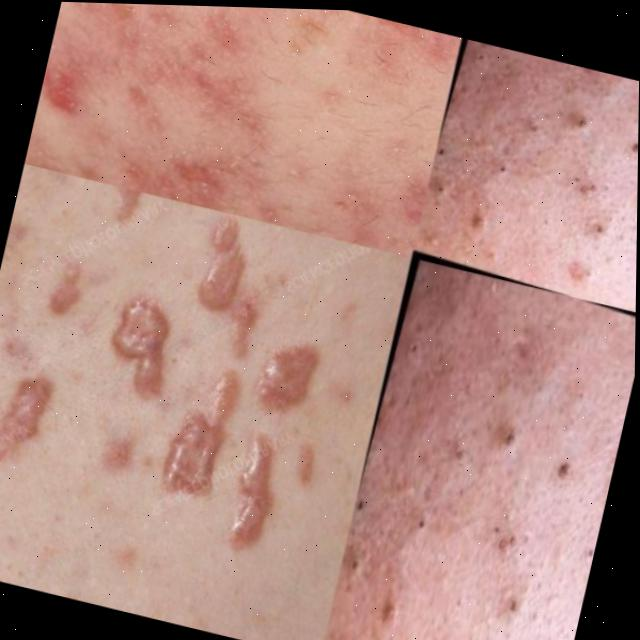Acne: (0, 250, 327, 578), (40, 1, 444, 243), (378, 245, 637, 599), (477, 47, 640, 213)
